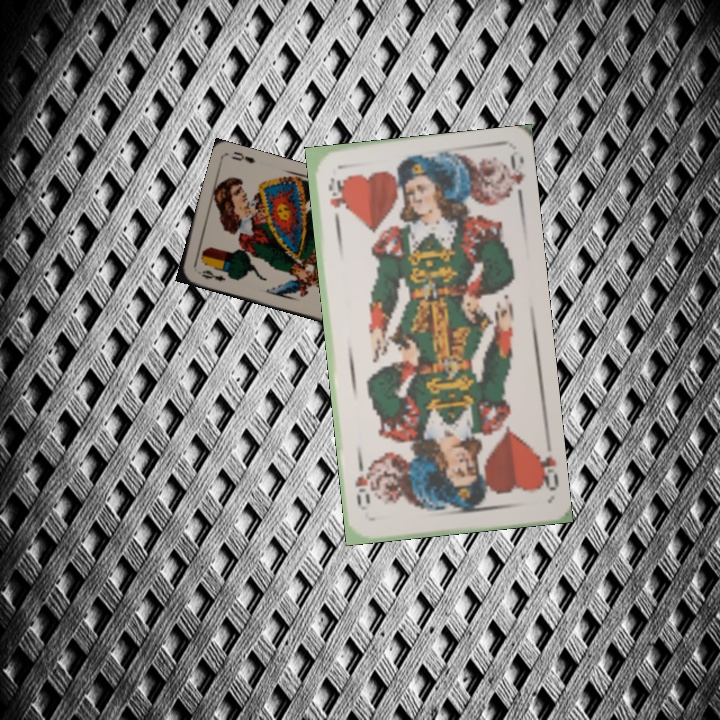EO: (193, 266, 228, 284)
HO: (530, 442, 561, 494), (324, 173, 344, 229)
